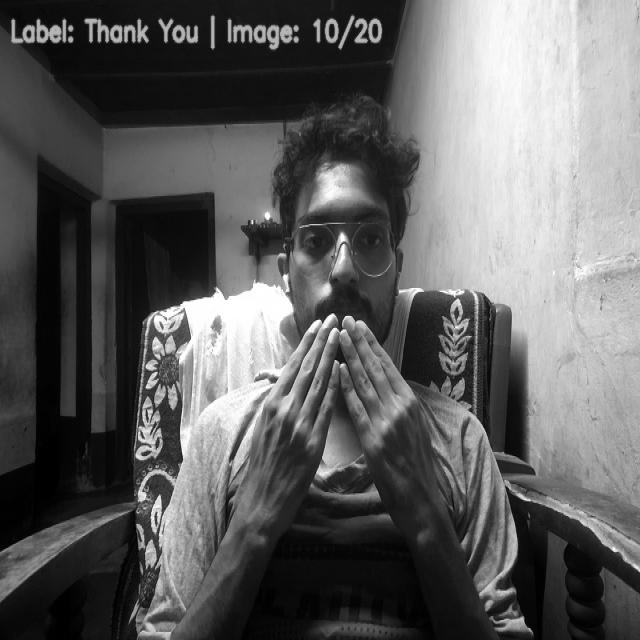Thank You: (241, 315, 447, 525)
